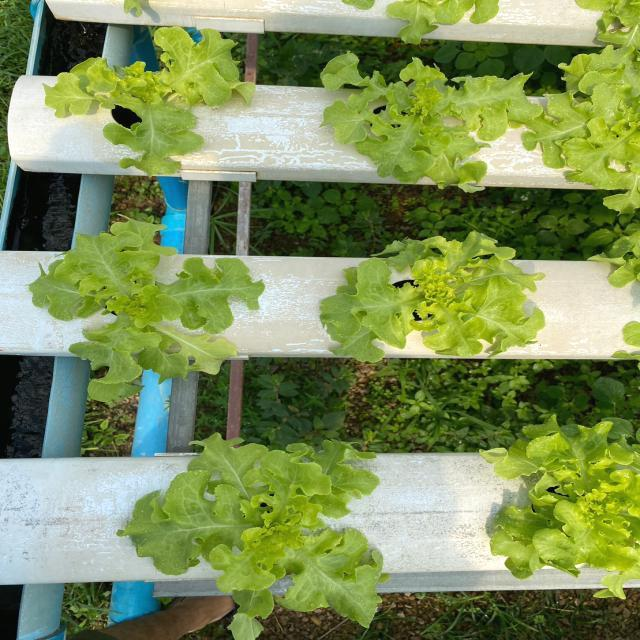Lettuce-Not-Ready-to-Harvest: (120, 434, 382, 639), (29, 222, 264, 401), (45, 28, 255, 175), (321, 52, 540, 188), (321, 232, 545, 361), (482, 419, 640, 597), (524, 0, 640, 212)
